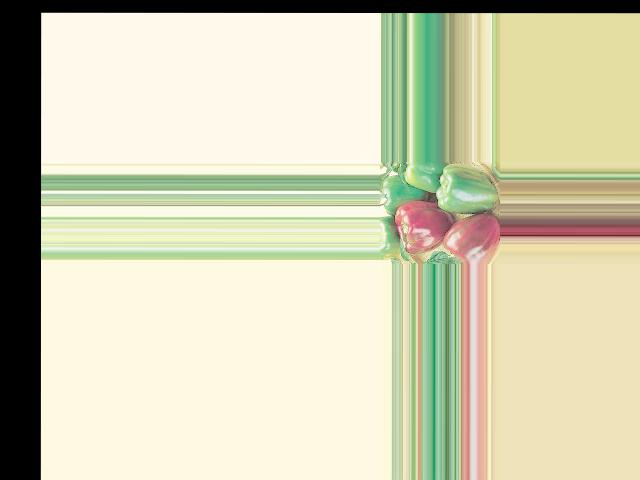bell_pepper: (443, 216, 500, 261)
